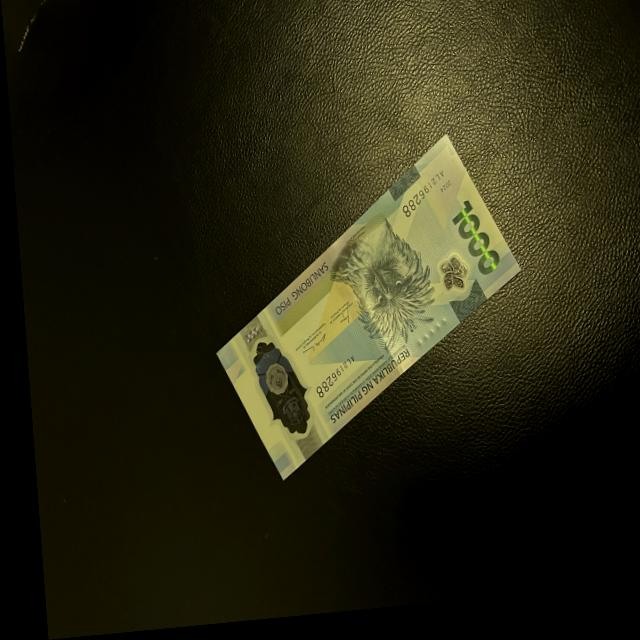eagle: (343, 226, 424, 351), (246, 331, 305, 449)
sampaguita: (435, 258, 465, 304)
